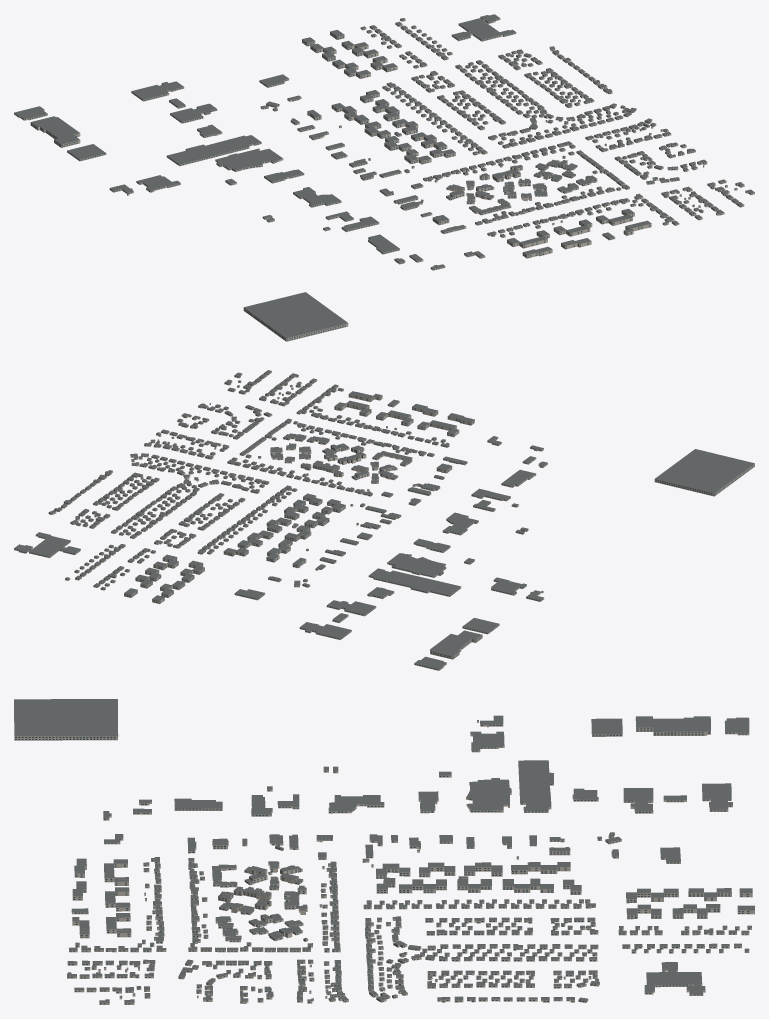
The picture shows the model from 3 angles, top to bottom: view 1: azimuth 30°, elevation 25°; view 2: azimuth 150°, elevation 25°; view 3: azimuth 270°, elevation 25°; orthographic projection. The views are drawn at different scales.
Visible parts, largest first — view 1: Buildings (-1, -5) Roof membrane, Buildings (-1, -5) Masonry brick, Buildings (-1, -5) Architectural tinted glass, Buildings (-1, -5) Metal coping; view 2: Buildings (-1, -5) Roof membrane, Buildings (-1, -5) Masonry brick, Buildings (-1, -5) Architectural tinted glass, Buildings (-1, -5) Metal coping; view 3: Buildings (-1, -5) Roof membrane, Buildings (-1, -5) Masonry brick, Buildings (-1, -5) Architectural tinted glass, Buildings (-1, -5) Metal coping.
Boxes of the visible parts, bbox=[...] form: Buildings (-1, -5) Roof membrane: bbox=[14, 14, 754, 338]; Buildings (-1, -5) Masonry brick: bbox=[14, 17, 754, 341]; Buildings (-1, -5) Architectural tinted glass: bbox=[14, 17, 752, 340]; Buildings (-1, -5) Metal coping: bbox=[61, 21, 748, 260]; Buildings (-1, -5) Roof membrane: bbox=[14, 370, 754, 668]; Buildings (-1, -5) Masonry brick: bbox=[14, 371, 754, 670]; Buildings (-1, -5) Architectural tinted glass: bbox=[14, 373, 754, 669]; Buildings (-1, -5) Metal coping: bbox=[19, 375, 754, 647]; Buildings (-1, -5) Roof membrane: bbox=[14, 699, 754, 1002]; Buildings (-1, -5) Masonry brick: bbox=[14, 716, 754, 1004]; Buildings (-1, -5) Architectural tinted glass: bbox=[14, 718, 749, 1004]; Buildings (-1, -5) Metal coping: bbox=[51, 699, 754, 1002].
Size of the model in its own units: 1045 by 9.85 by 1089.
